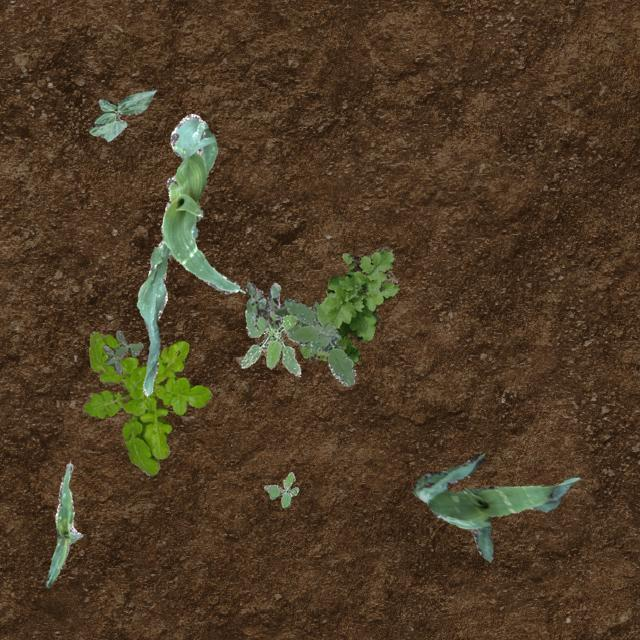crop: (136, 113, 242, 394), (412, 452, 580, 560), (44, 460, 82, 586), (88, 88, 156, 140)
weed: (80, 330, 210, 474), (296, 244, 398, 366), (282, 298, 354, 386), (240, 308, 300, 376), (244, 280, 286, 328), (100, 328, 142, 374), (262, 471, 298, 506)
